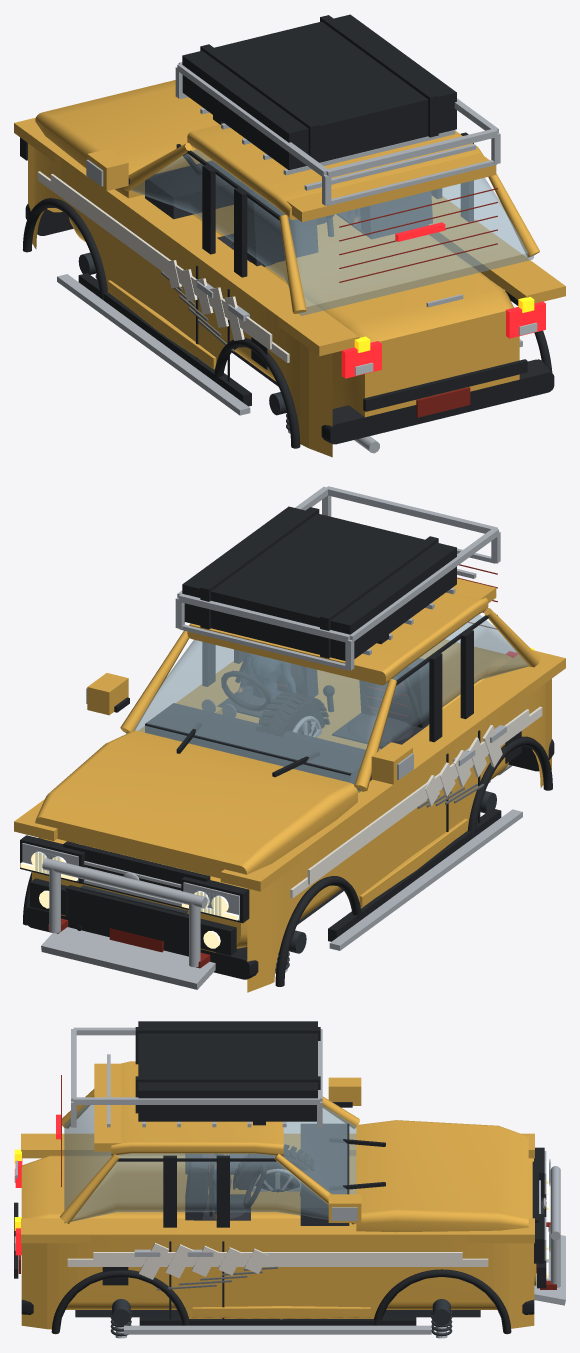
Rendered from dzo-hatch.glb.
The picture shows the model from 3 angles, top to bottom: view 1: azimuth 30°, elevation 25°; view 2: azimuth 150°, elevation 25°; view 3: azimuth 270°, elevation 25°; orthographic projection. The views are drawn at different scales.
Visible parts, largest first — view 1: body_high, cosmetic_carrier, body_low, cosmetic_basket, cosmetic_trail (×2), cosmetic_stripe, cosmetic_summit; view 2: body_high, body_low, cosmetic_carrier, cosmetic_trail (×2), cosmetic_basket, cosmetic_stripe, cosmetic_summit, wheel_high; view 3: body_high, body_low, cosmetic_carrier, cosmetic_trail (×2), cosmetic_basket, cosmetic_stripe, cosmetic_summit, wheel_high, damage_group.
Part boxes in pixels (bbox=[...]): body_high: bbox=[14, 80, 565, 457]; cosmetic_carrier: bbox=[182, 14, 456, 170]; body_low: bbox=[23, 149, 545, 453]; cosmetic_basket: bbox=[175, 62, 500, 205]; cosmetic_trail (×2): bbox=[57, 274, 522, 415]; cosmetic_stripe: bbox=[50, 174, 272, 349]; cosmetic_summit: bbox=[165, 260, 244, 340]; body_high: bbox=[14, 564, 565, 992]; body_low: bbox=[22, 614, 552, 981]; cosmetic_carrier: bbox=[182, 506, 456, 660]; cosmetic_trail (×2): bbox=[41, 809, 522, 989]; cosmetic_basket: bbox=[175, 486, 500, 670]; cosmetic_stripe: bbox=[307, 709, 529, 884]; cosmetic_summit: bbox=[425, 725, 502, 806]; wheel_high: bbox=[256, 691, 329, 736]; body_high: bbox=[14, 1061, 556, 1338]; body_low: bbox=[56, 1105, 556, 1333]; cosmetic_carrier: bbox=[135, 1021, 320, 1121]; cosmetic_trail (×2): bbox=[124, 1166, 565, 1334]; cosmetic_basket: bbox=[71, 1027, 322, 1127]; cosmetic_stripe: bbox=[93, 1252, 462, 1264]; cosmetic_summit: bbox=[139, 1243, 268, 1279]; wheel_high: bbox=[233, 1144, 313, 1189]; damage_group: bbox=[157, 1266, 277, 1290].
Size of what is drawn, in the model's own units: 2.13 by 1.93 by 3.88.
